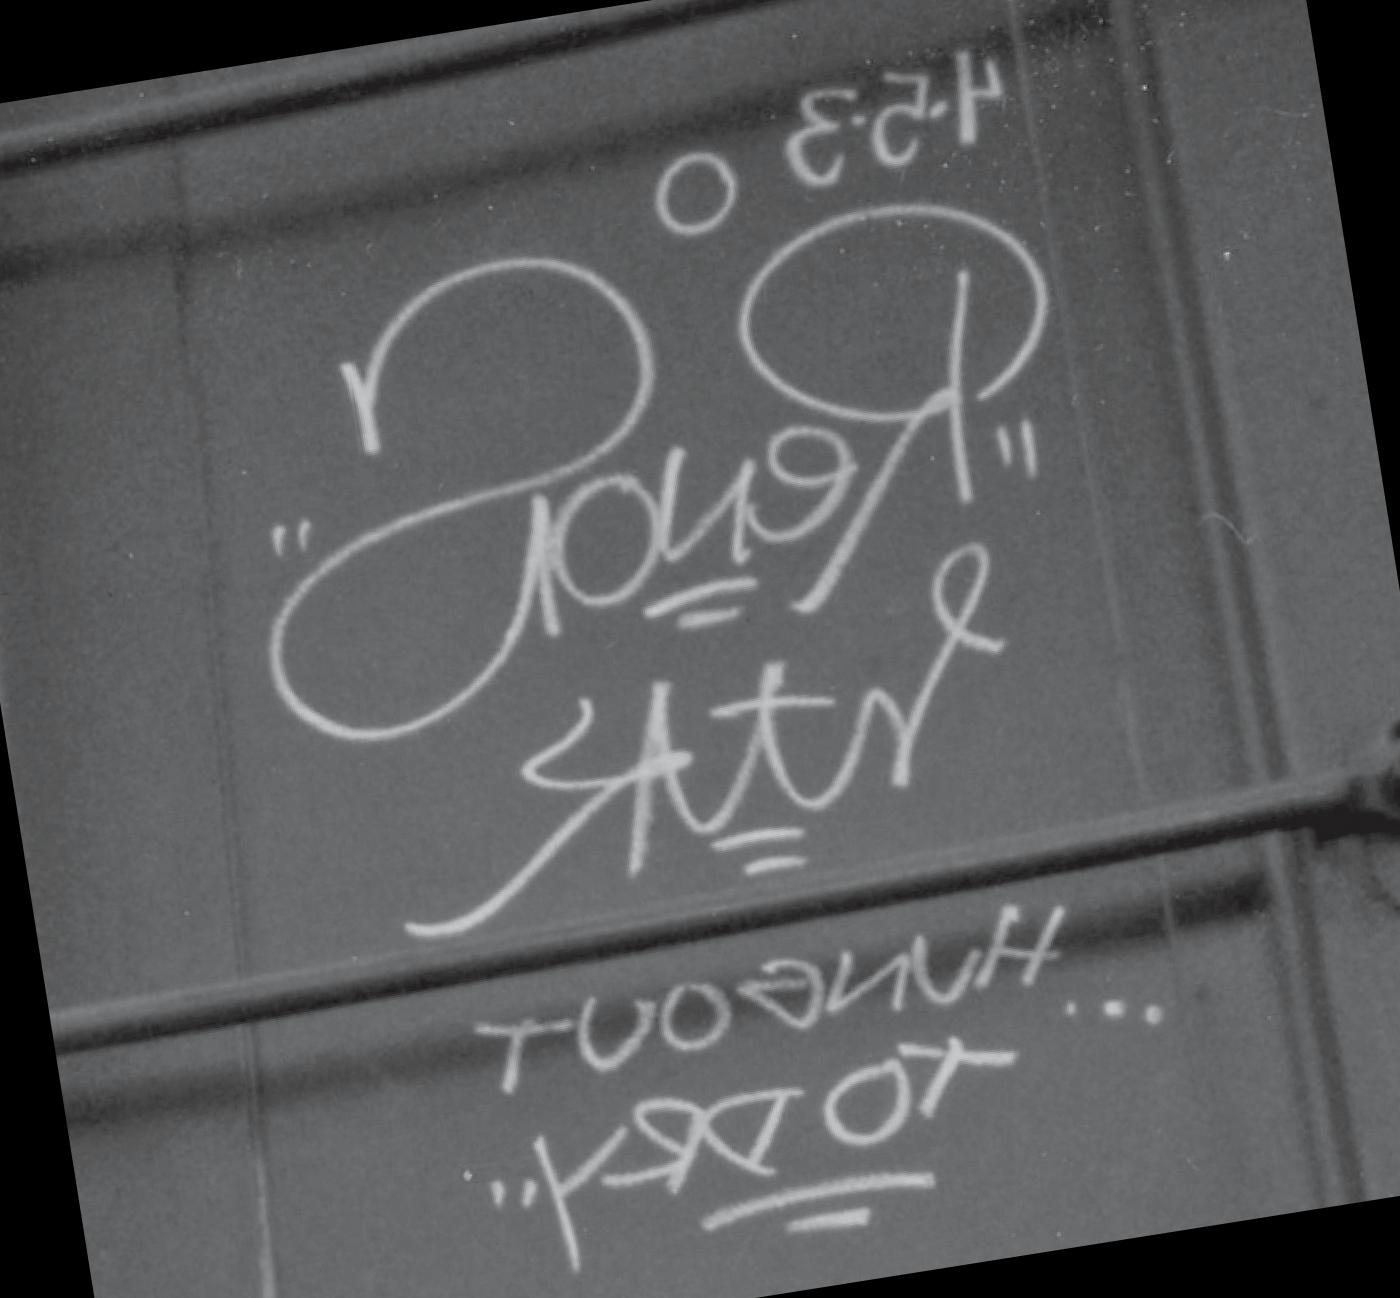graffiti: (168, 27, 1220, 1298)
